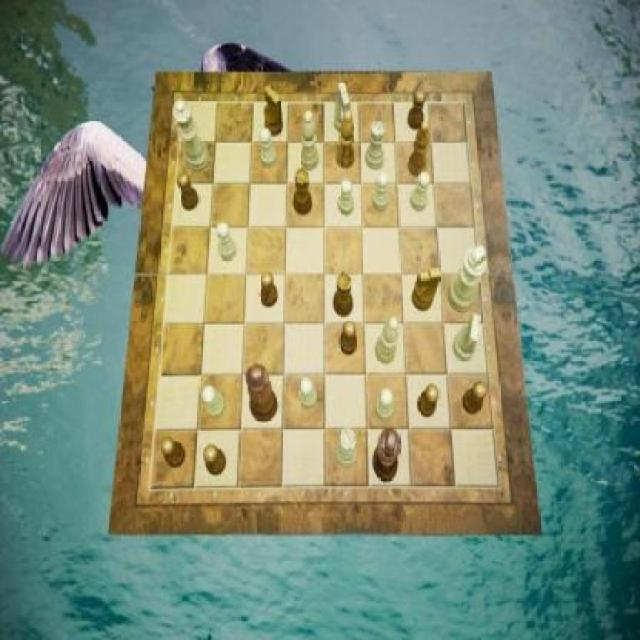bishop: (408, 120, 430, 178), (336, 111, 354, 169)
black-bishop: (374, 428, 401, 482)
black-king: (412, 268, 442, 312), (264, 85, 284, 137)
black-knight: (177, 172, 199, 211), (463, 382, 488, 416), (160, 437, 186, 468), (417, 384, 439, 418), (203, 445, 226, 477), (408, 89, 425, 131), (260, 272, 278, 308), (339, 322, 356, 356)
black-pawn: (246, 363, 279, 422)
black-queen: (292, 169, 312, 217), (334, 271, 354, 316)
black-rook: (300, 111, 319, 169), (377, 317, 400, 363)
white-bishop: (448, 246, 485, 314)
white-king: (454, 314, 481, 361), (334, 83, 353, 134)
white-knight: (202, 384, 226, 418), (411, 172, 431, 212), (217, 223, 237, 262), (372, 172, 390, 211), (259, 128, 276, 168), (338, 180, 356, 216), (298, 377, 318, 409), (375, 388, 393, 422)
white-pawn: (174, 99, 211, 172)
white-queen: (366, 121, 386, 170), (336, 428, 358, 468)
